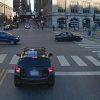Crosswalk: (56, 47, 100, 78)
